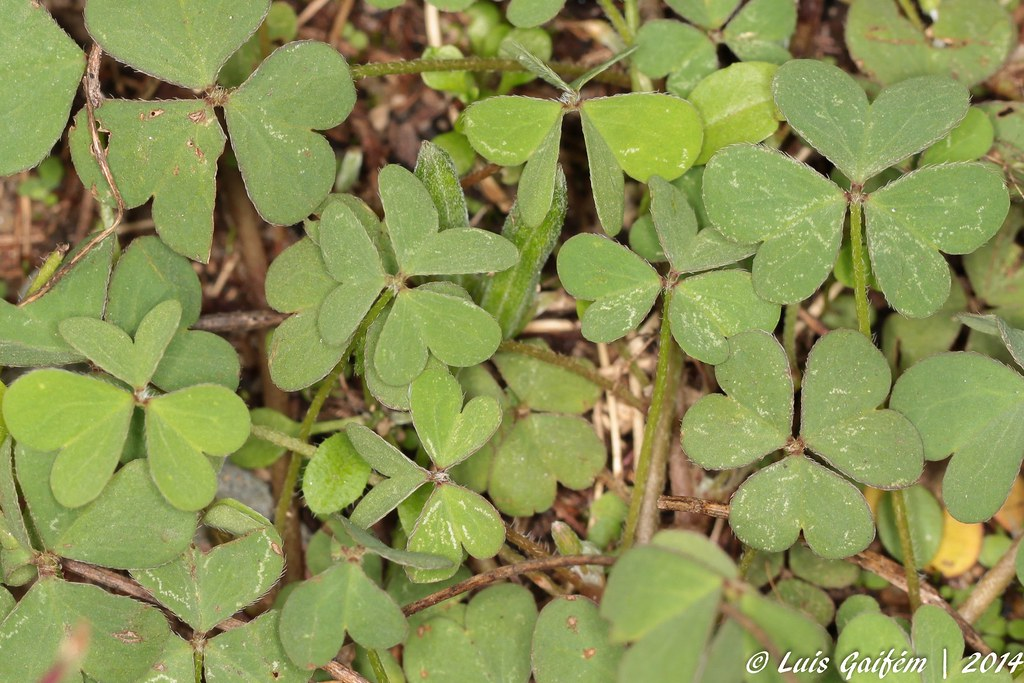oxalis: (57, 32, 1011, 683)
